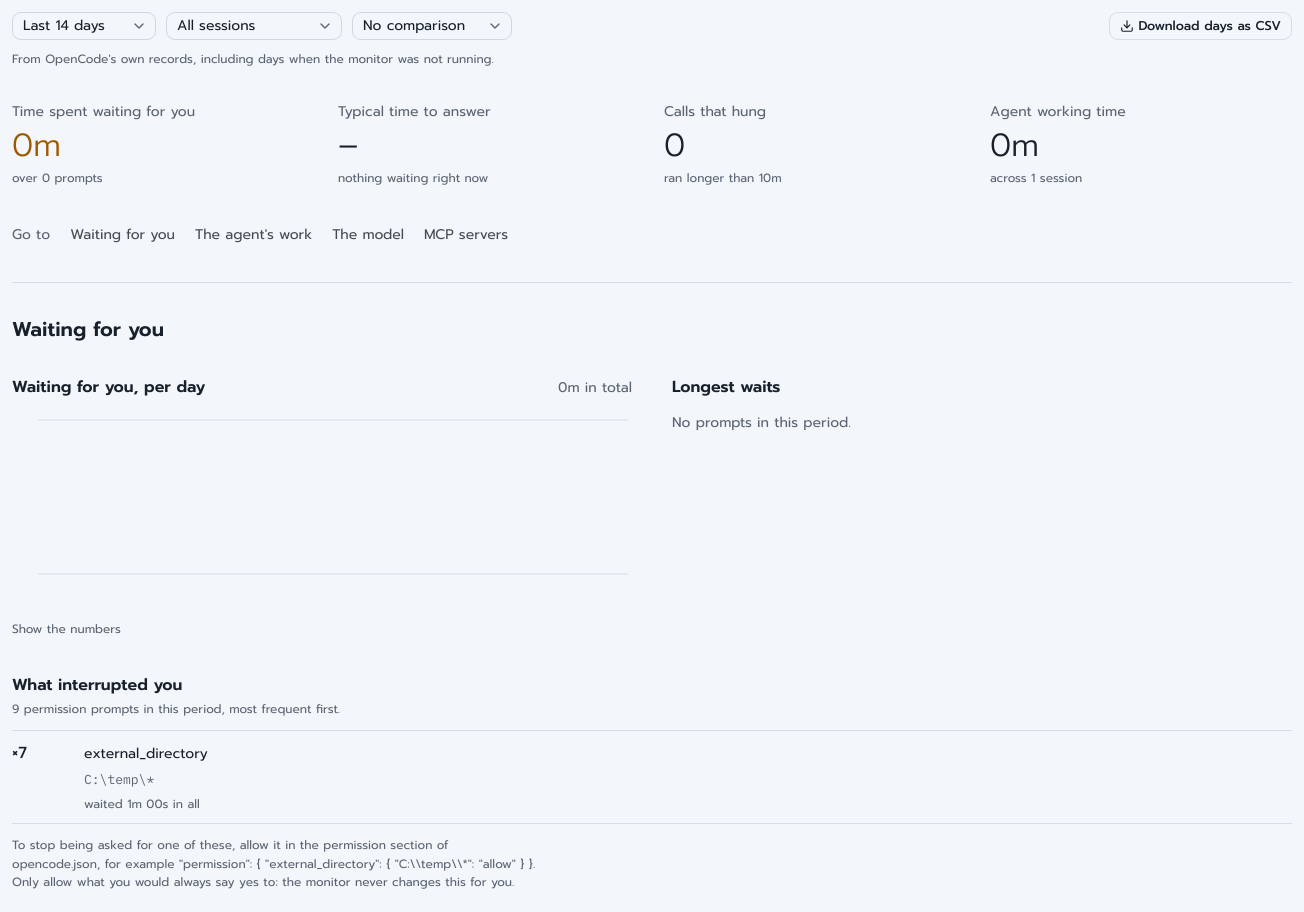
Test: Before and after in Stats › puts the two sides of a chosen day next to each other and says which way is better
Step 1. Click the dropdown named "Compare before and after a day" → [432, 26], box x1=352 y1=12 x2=512 y2=40
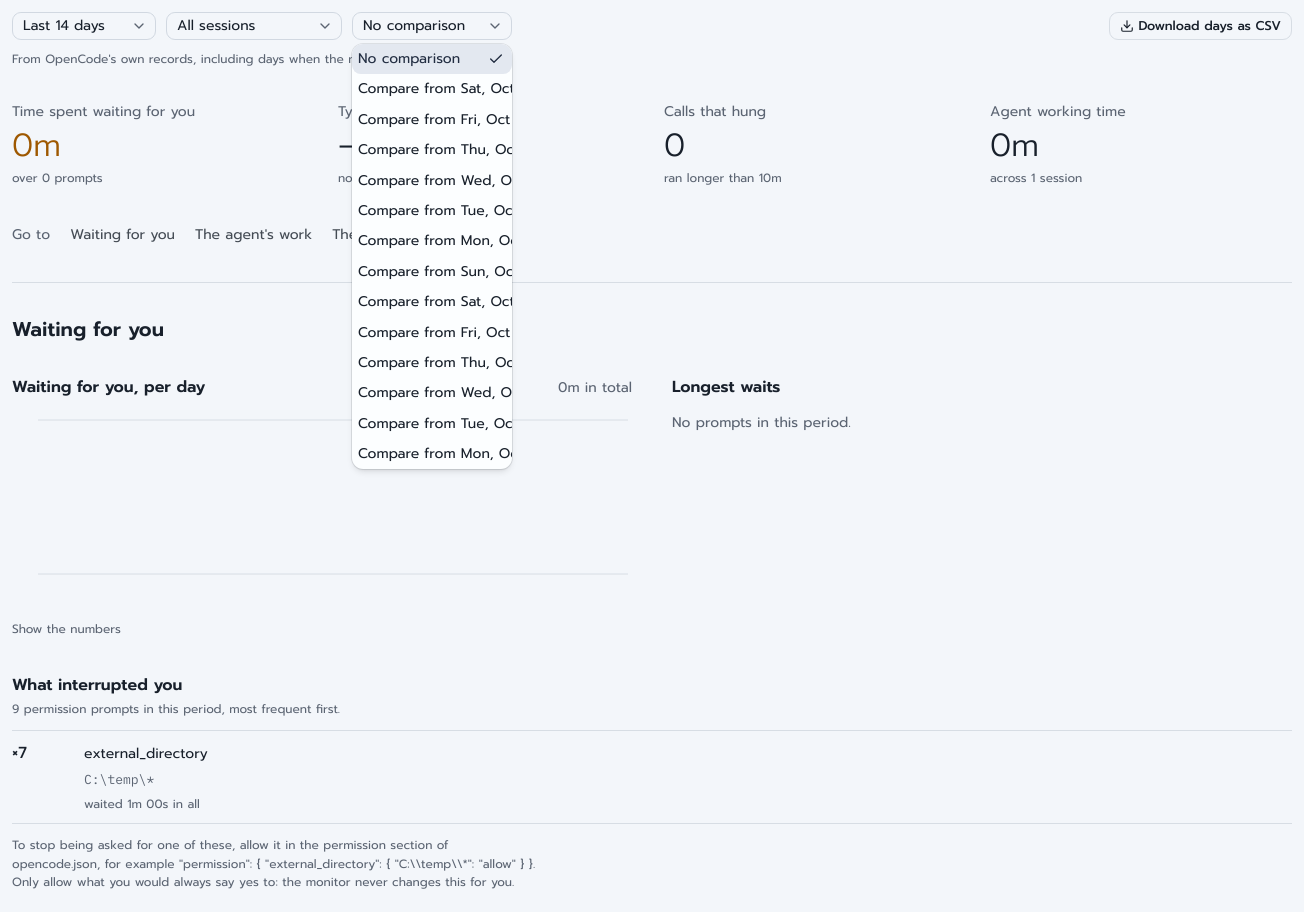
Step 2. Click the option "Compare from Fri, Oct 16" → [432, 120], box x1=352 y1=105 x2=512 y2=135
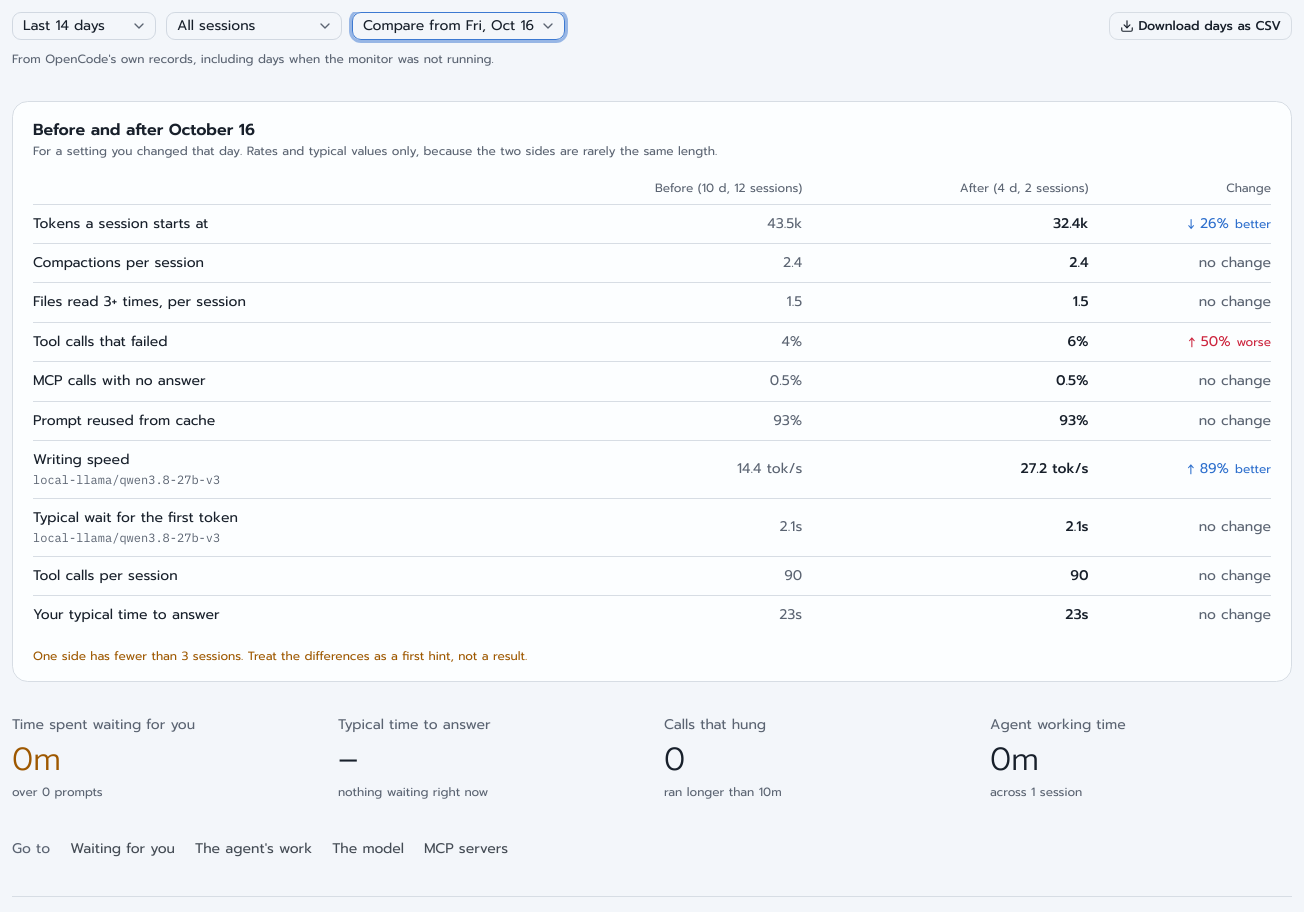
Expected: the text "43.5k" is shown, x1=490 y1=204 x2=814 y2=244
Expected: the text "32.4k" is shown, x1=814 y1=204 x2=1100 y2=244
Expected: the text "better" next to "26%" is shown, x1=1235 y1=215 x2=1271 y2=233
